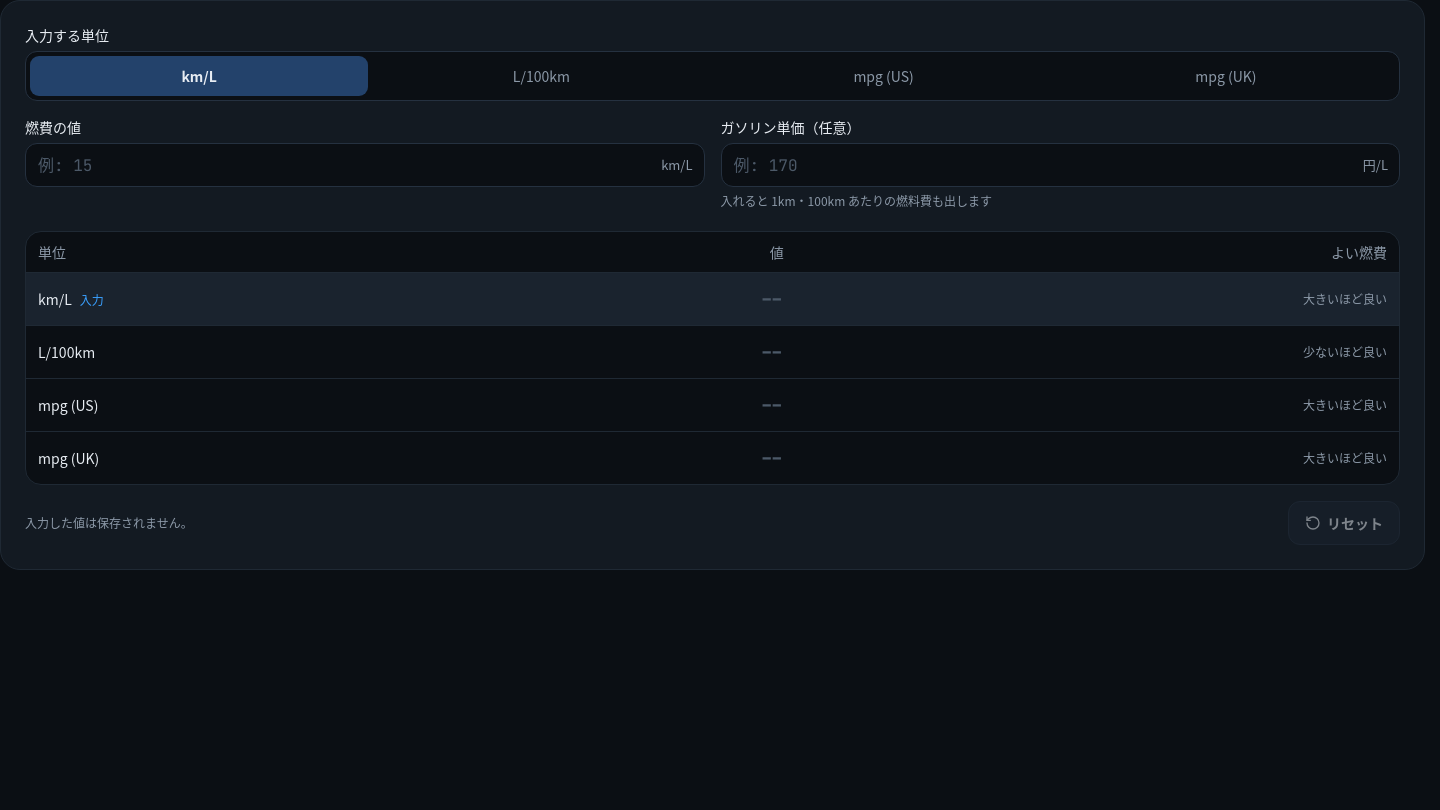
FuelConvertCalculator › 単価を入れたときだけ燃料費を出す
Type "15" into the field labelled "燃費の値" at (365, 165), box x1=25 y1=143 x2=704 y2=187
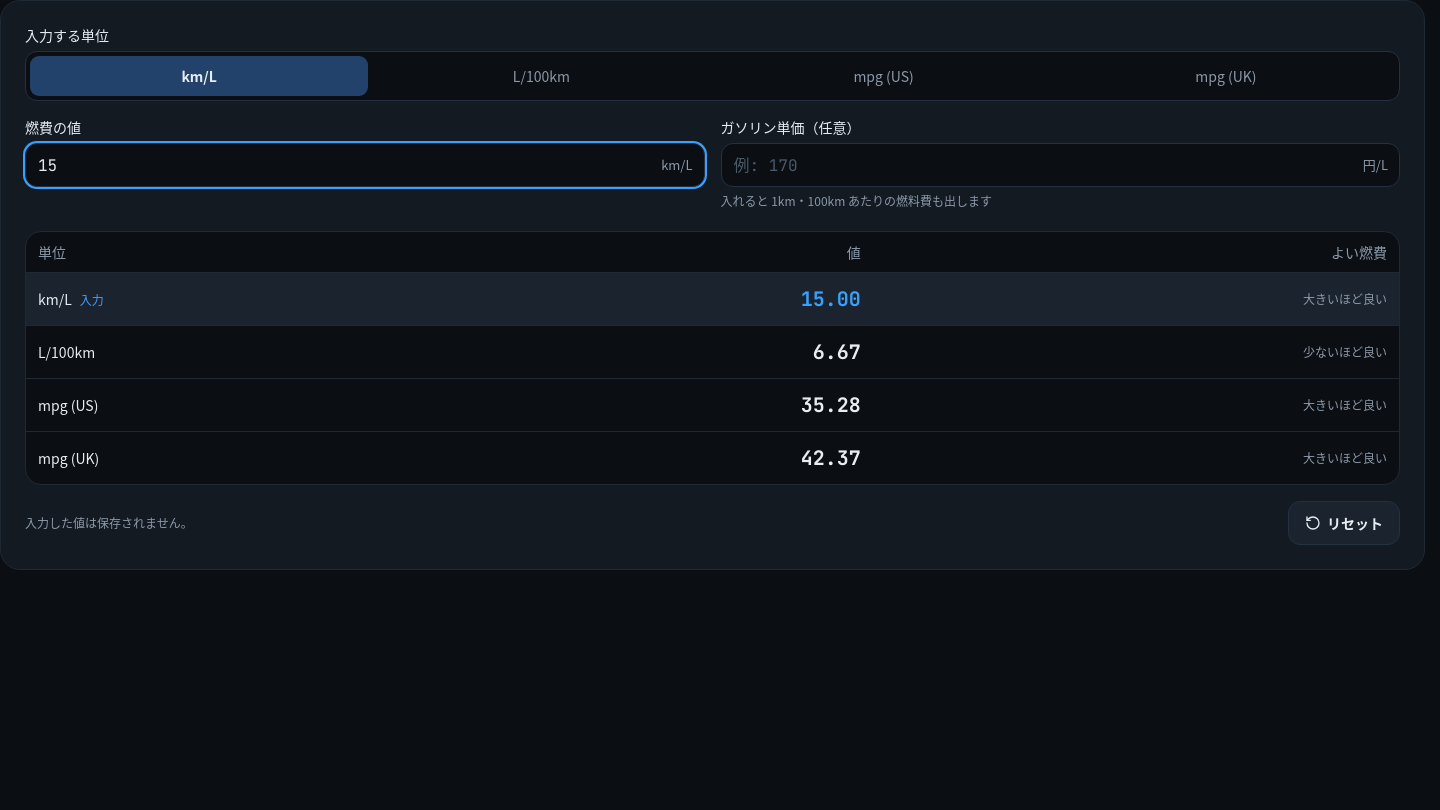
Expected: the text "1kmあたりの燃料費" is not shown
Type "170" into the field labelled "ガソリン単価（任意）" at (1060, 165), box x1=720 y1=143 x2=1400 y2=187
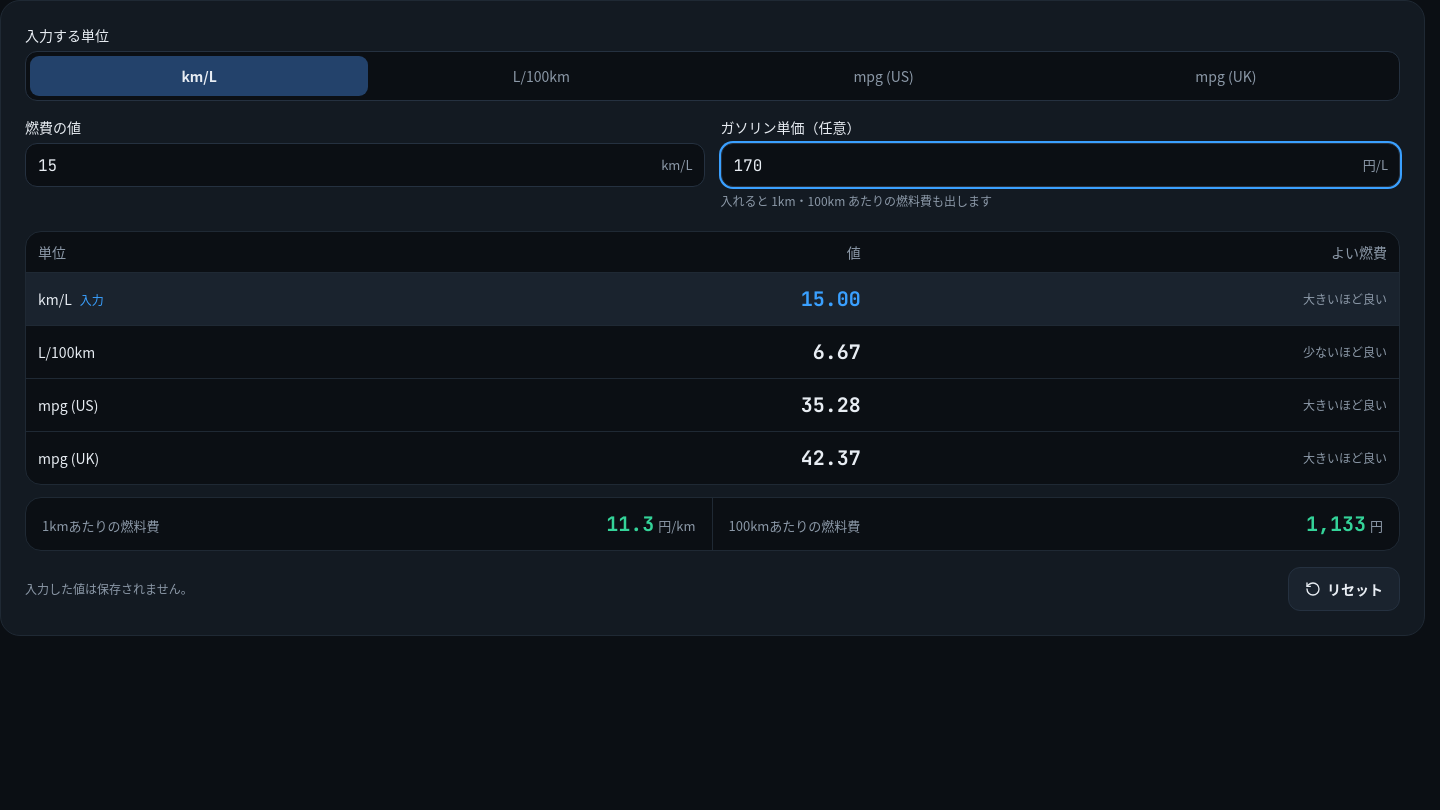
Expected: the text "1kmあたりの燃料費" is shown, x1=42 y1=516 x2=159 y2=535
Expected: the text "11.3" is shown, x1=606 y1=510 x2=654 y2=538
Expected: the text "1,133" is shown, x1=1306 y1=510 x2=1366 y2=538
